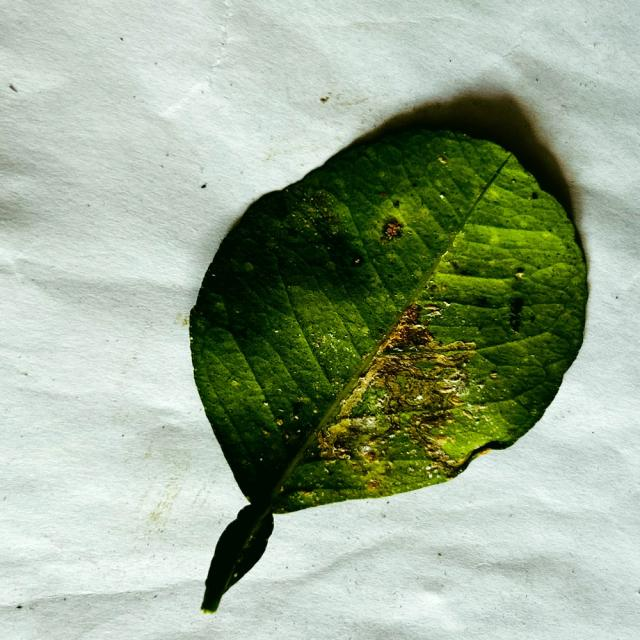Bacterial_Blight: (381, 305, 436, 351), (300, 189, 341, 230), (381, 372, 412, 403), (370, 369, 403, 396), (381, 214, 405, 245), (380, 216, 405, 243), (507, 296, 525, 331), (401, 304, 421, 326), (425, 281, 448, 297), (363, 449, 379, 462), (321, 214, 338, 226), (365, 479, 381, 491), (351, 255, 364, 267), (287, 227, 299, 237), (479, 296, 489, 307), (437, 155, 448, 164), (531, 191, 539, 200), (516, 266, 525, 274), (393, 200, 400, 208), (379, 191, 387, 198), (412, 182, 418, 188)
Lemon: (188, 118, 589, 616)
